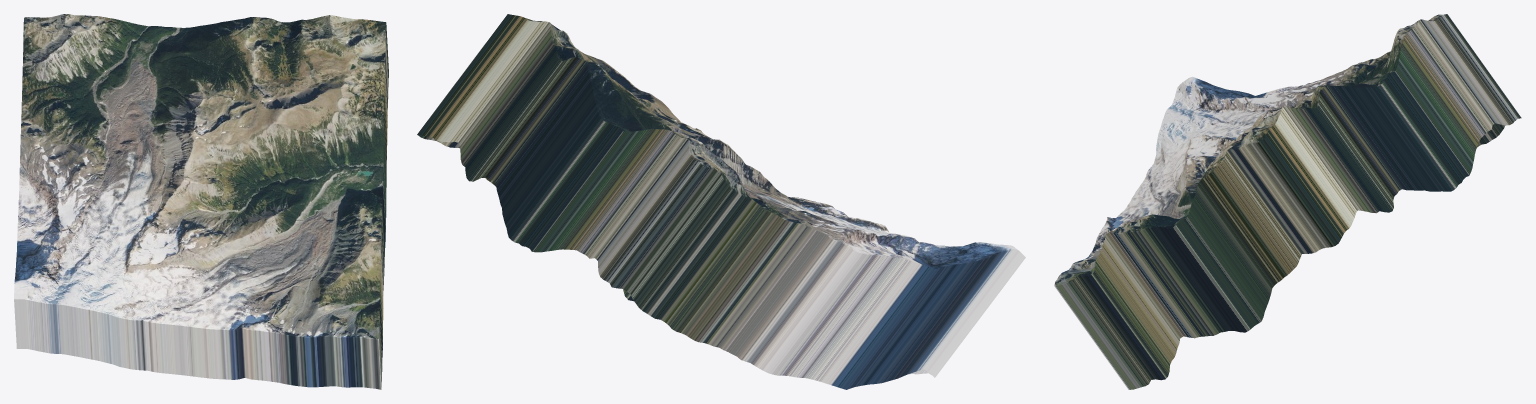
3 views of the same model, side by side, from view 1: azimuth 30°, elevation 25°; view 2: azimuth 150°, elevation 25°; view 3: azimuth 270°, elevation 25° (orthographic). The views are drawn at different scales.
Size of the model in its own units: 11863 by 7682 by 10960.
1 material, 1 textured.
